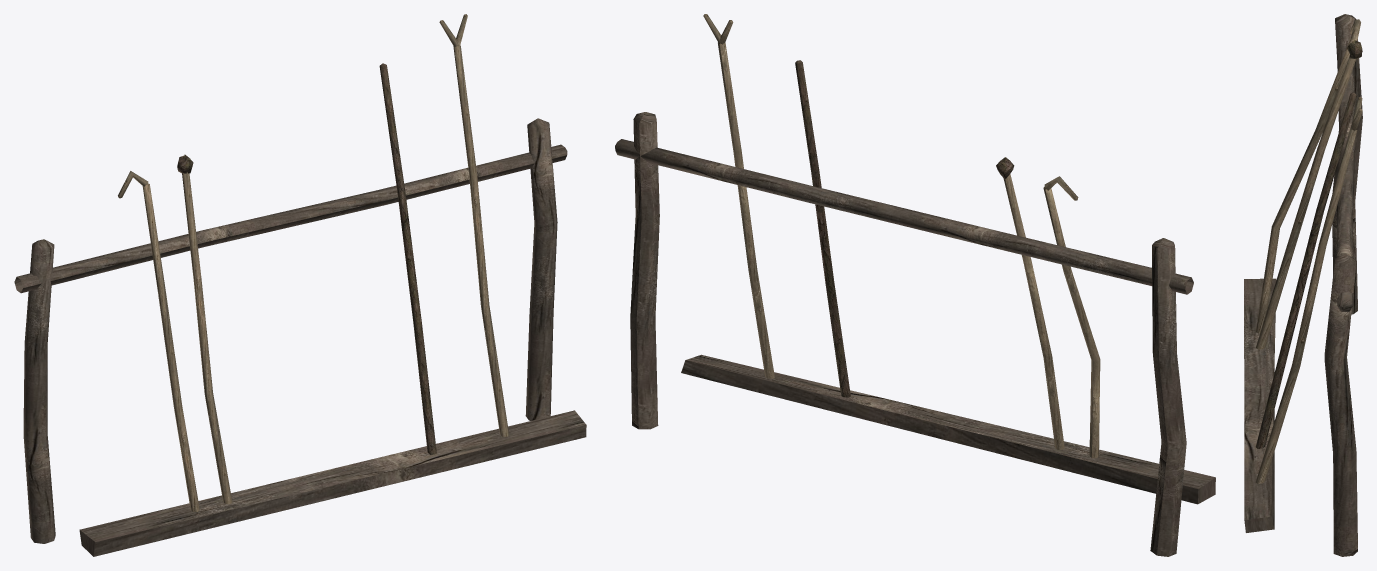
File: cw_staff_rack.glb
3 views of the same model, side by side, from view 1: azimuth 30°, elevation 25°; view 2: azimuth 150°, elevation 25°; view 3: azimuth 270°, elevation 25° (orthographic). The views are drawn at different scales.
Parts seen in each view (by area): view 1: cw_staff_rack; view 2: cw_staff_rack; view 3: cw_staff_rack.
Boxes of the visible parts, bbox=[...] form: cw_staff_rack: bbox=[14, 14, 586, 556]; cw_staff_rack: bbox=[615, 14, 1215, 556]; cw_staff_rack: bbox=[1244, 14, 1362, 556].
Size of the model in its own units: 2.22 by 1.6 by 0.4183.
1 material, 1 textured.
